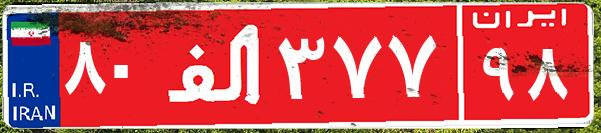0: (110, 28, 158, 105)
3: (273, 28, 330, 110)
7: (385, 28, 445, 110), (330, 28, 385, 110)
8: (57, 26, 110, 107), (525, 38, 570, 115)
9: (475, 38, 525, 113)
الف: (158, 15, 273, 115)
